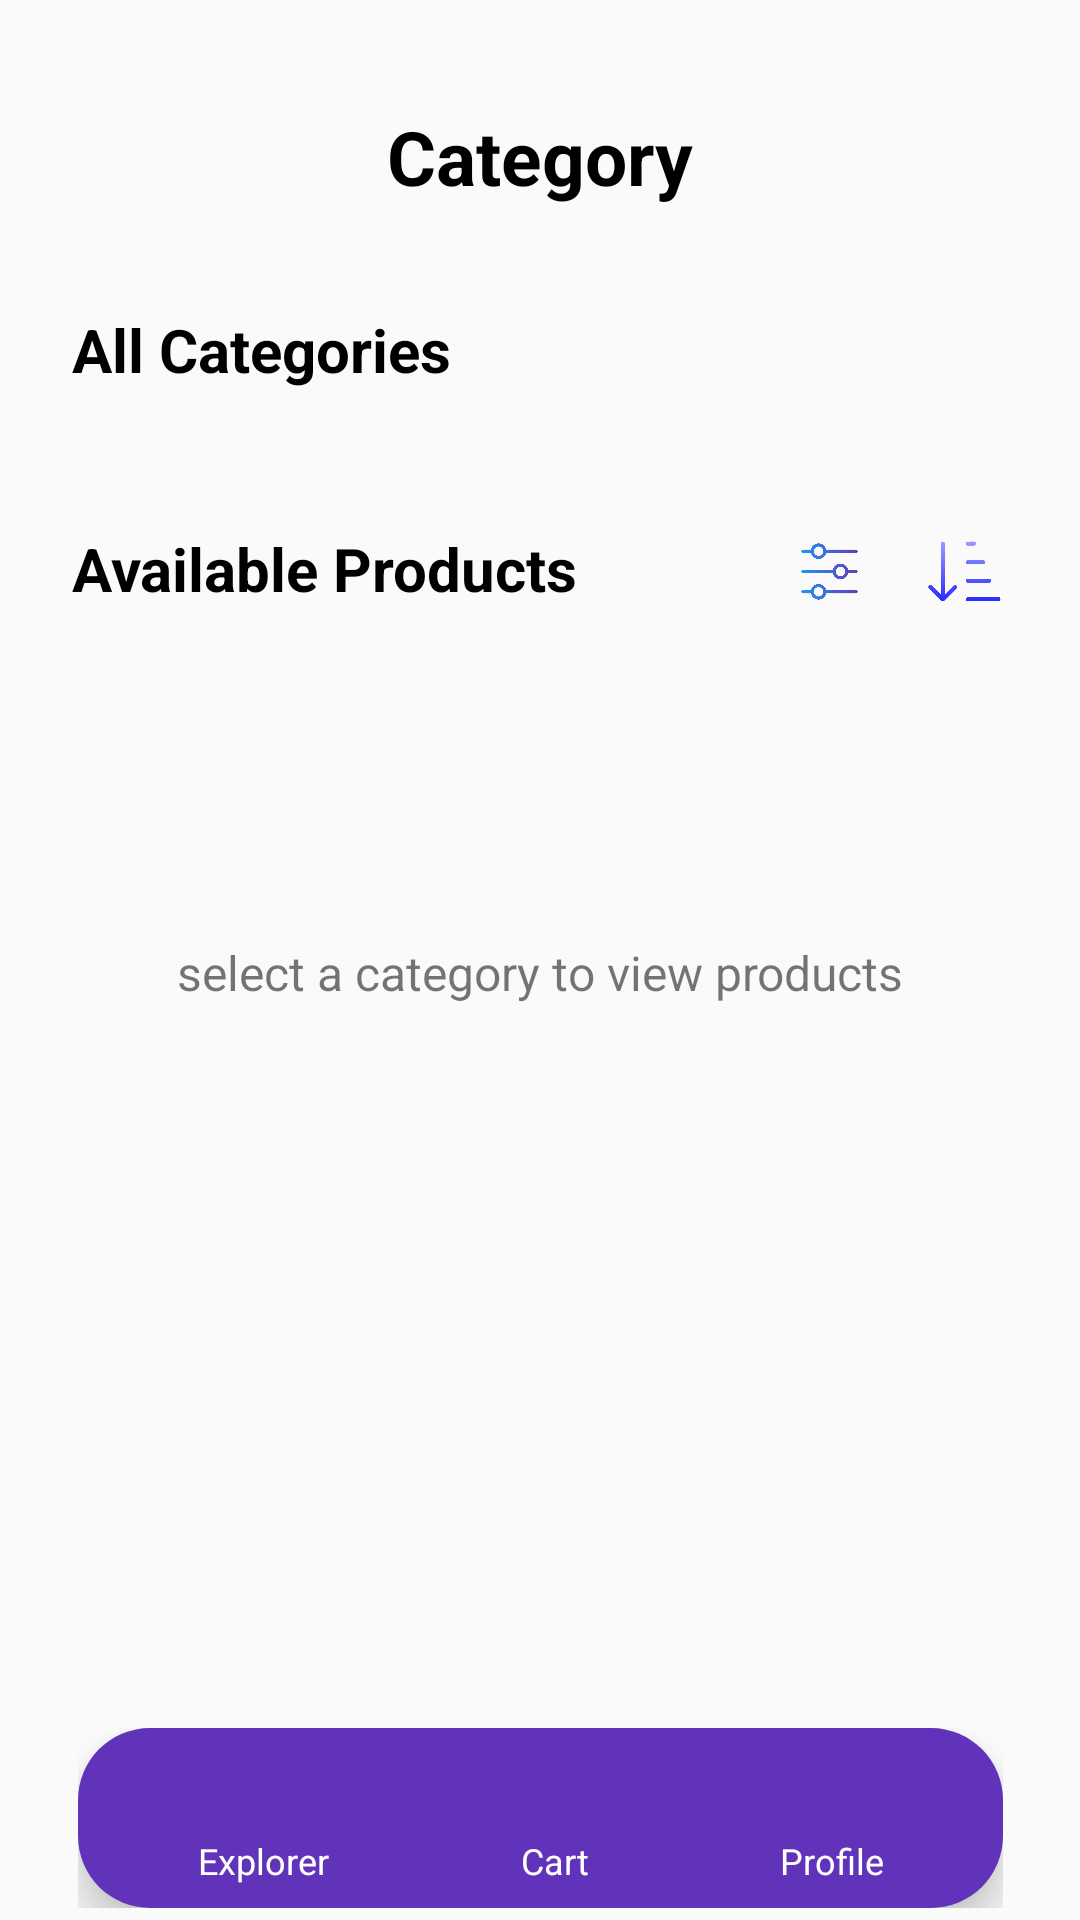

Screen size 1080px x 1920px. Icon name, then its box in pixels as {"left": x1, "top": y1, "right": x2, "bottom": y2}:
down arrow: {"left": 928, "top": 541, "right": 1001, "bottom": 601}
filter: {"left": 801, "top": 543, "right": 858, "bottom": 600}
